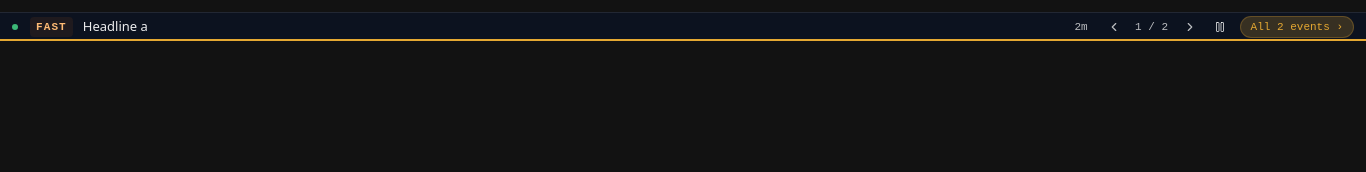
Test: pause and manual stepping › pause stops the rotation until resumed
Click the button named "Pause rotation" at (1220, 27), box left=1206, top=13, right=1234, bottom=41
Wait 60000 ms
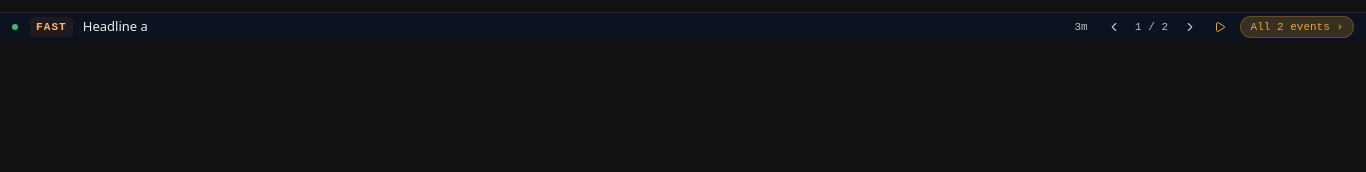
Expected: the text with test id "headline-title" reads "Headline a", left=83, top=17, right=148, bottom=35
Result: the element with test id "headline-progress" is gone
Click the button named "Resume rotation" at (1220, 27), box left=1206, top=13, right=1234, bottom=41
Wait 6100 ms
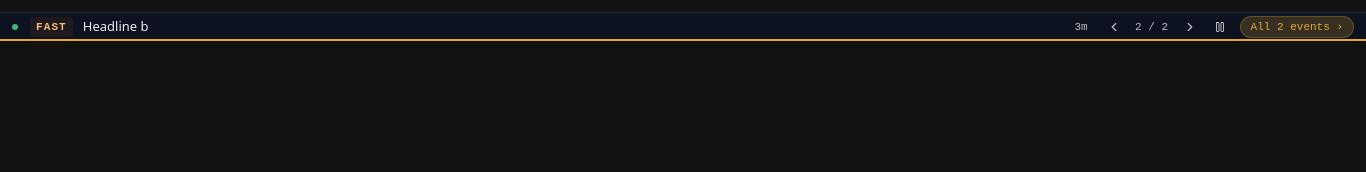
Result: the text with test id "headline-title" reads "Headline b" at left=83, top=17, right=148, bottom=35
